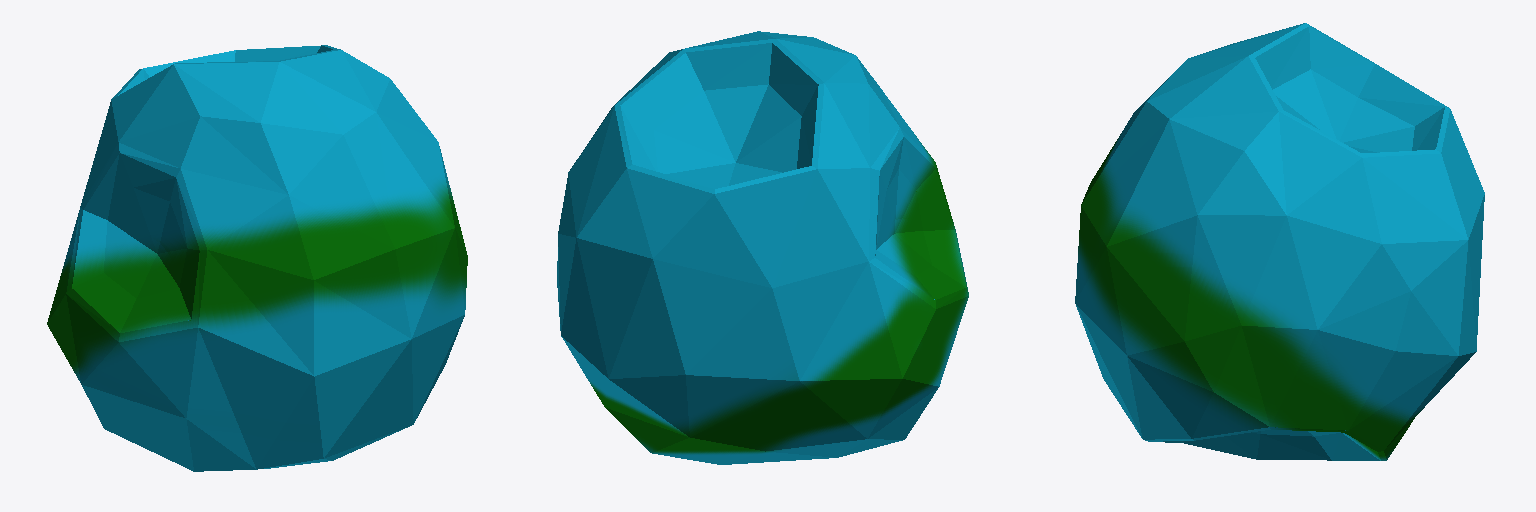
3 renders of one model, left to right at view 1: azimuth 30°, elevation 25°; view 2: azimuth 150°, elevation 25°; view 3: azimuth 270°, elevation 25°, orthographic.
Parts seen in each view (by area): view 1: Asteroid_M_2_Icosphere.006; view 2: Asteroid_M_2_Icosphere.006; view 3: Asteroid_M_2_Icosphere.006.
Part boxes in pixels (x1,y1,x2,y2): Asteroid_M_2_Icosphere.006: (47,45,467,471); Asteroid_M_2_Icosphere.006: (557,31,968,464); Asteroid_M_2_Icosphere.006: (1075,23,1484,460).
Bounding box in the file's own units: 5.39 × 5.86 × 5.34.
Materials: 1 (1 with a texture image).